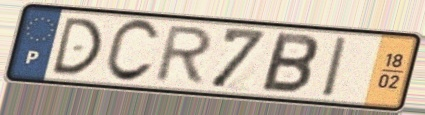7: (212, 25, 269, 91)
B: (258, 30, 322, 96)
C: (101, 17, 162, 85)
D: (48, 15, 105, 76)
I: (319, 34, 351, 100)
R: (150, 24, 217, 87)
